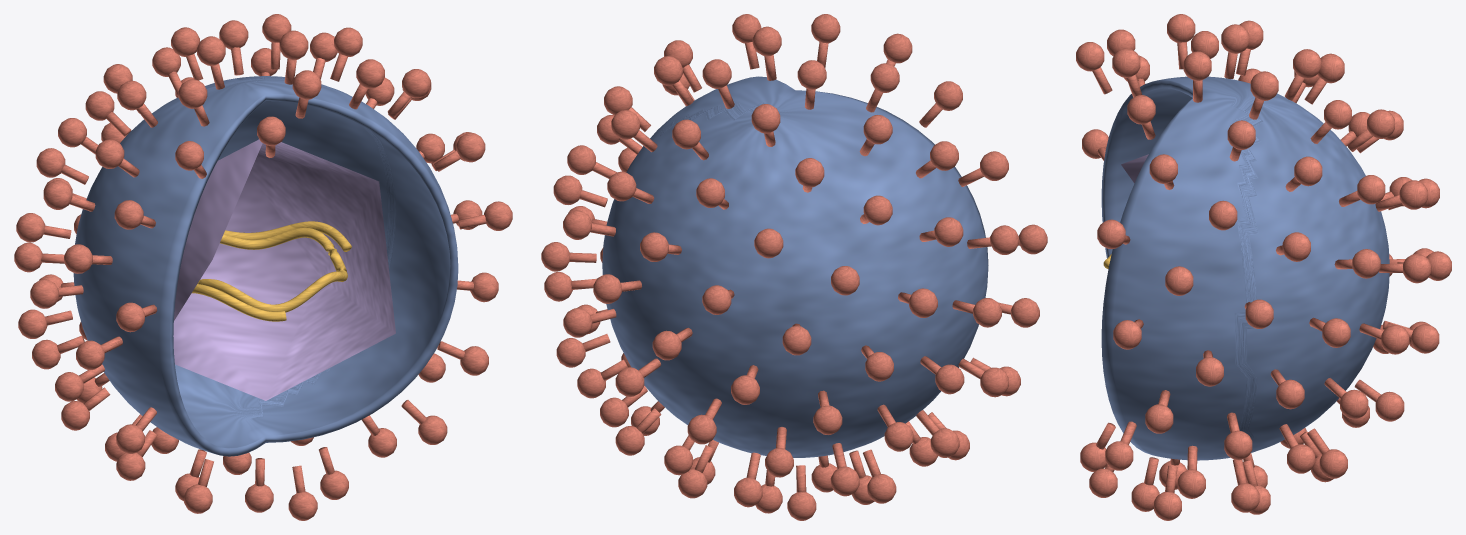
Rendered from cutaway.glb.
3 views of the same model, side by side, from view 1: azimuth 30°, elevation 25°; view 2: azimuth 150°, elevation 25°; view 3: azimuth 270°, elevation 25° (orthographic).
Parts seen in each view (by area): view 1: envelope_mesh, espiculas_mesh, capsideo_mesh, genoma_mesh; view 2: envelope_mesh, espiculas_mesh; view 3: envelope_mesh, espiculas_mesh.
Part boxes in pixels (x1,y1,x2,y2): envelope_mesh: (73,76,458,456); espiculas_mesh: (14,14,512,520); capsideo_mesh: (173,139,395,400); genoma_mesh: (192,221,351,321); envelope_mesh: (602,76,988,457); espiculas_mesh: (541,14,1047,520); envelope_mesh: (1101,76,1389,460); espiculas_mesh: (1076,14,1451,520).
Bounding box in the file's own units: 2.64 × 2.63 × 1.95.
4 materials, 4 textured.
